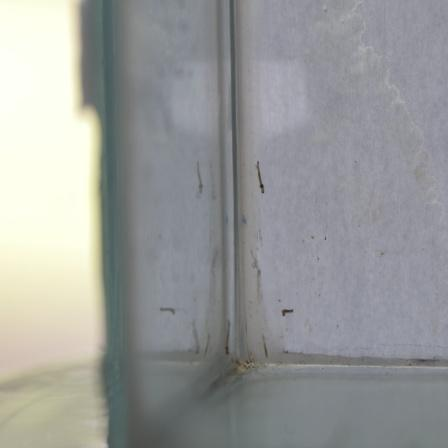Jentik-Nyamuk: (251, 158, 268, 198), (220, 317, 235, 357), (274, 303, 298, 322)
